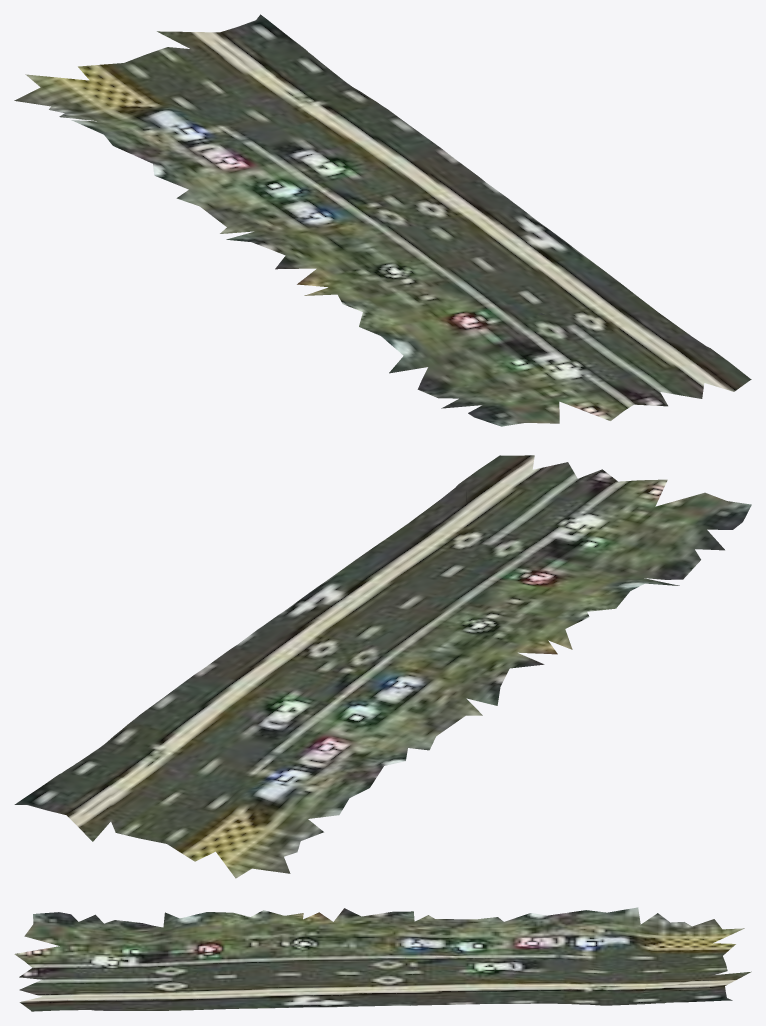
Rendered from Tile_001_003_L14_434.glb.
The picture shows the model from 3 angles, top to bottom: view 1: azimuth 30°, elevation 25°; view 2: azimuth 150°, elevation 25°; view 3: azimuth 270°, elevation 25°; orthographic projection. The views are drawn at different scales.
Visible parts, largest first — view 1: rtc; view 2: rtc; view 3: rtc.
Boxes of the visible parts, x1,y1,x2,y2 form: rtc: (14,14,751,426); rtc: (14,455,751,878); rtc: (14,907,751,1011).
Bounding box in the file's own units: 22.13 × 1.73 × 72.14.
1 material, 1 textured.
